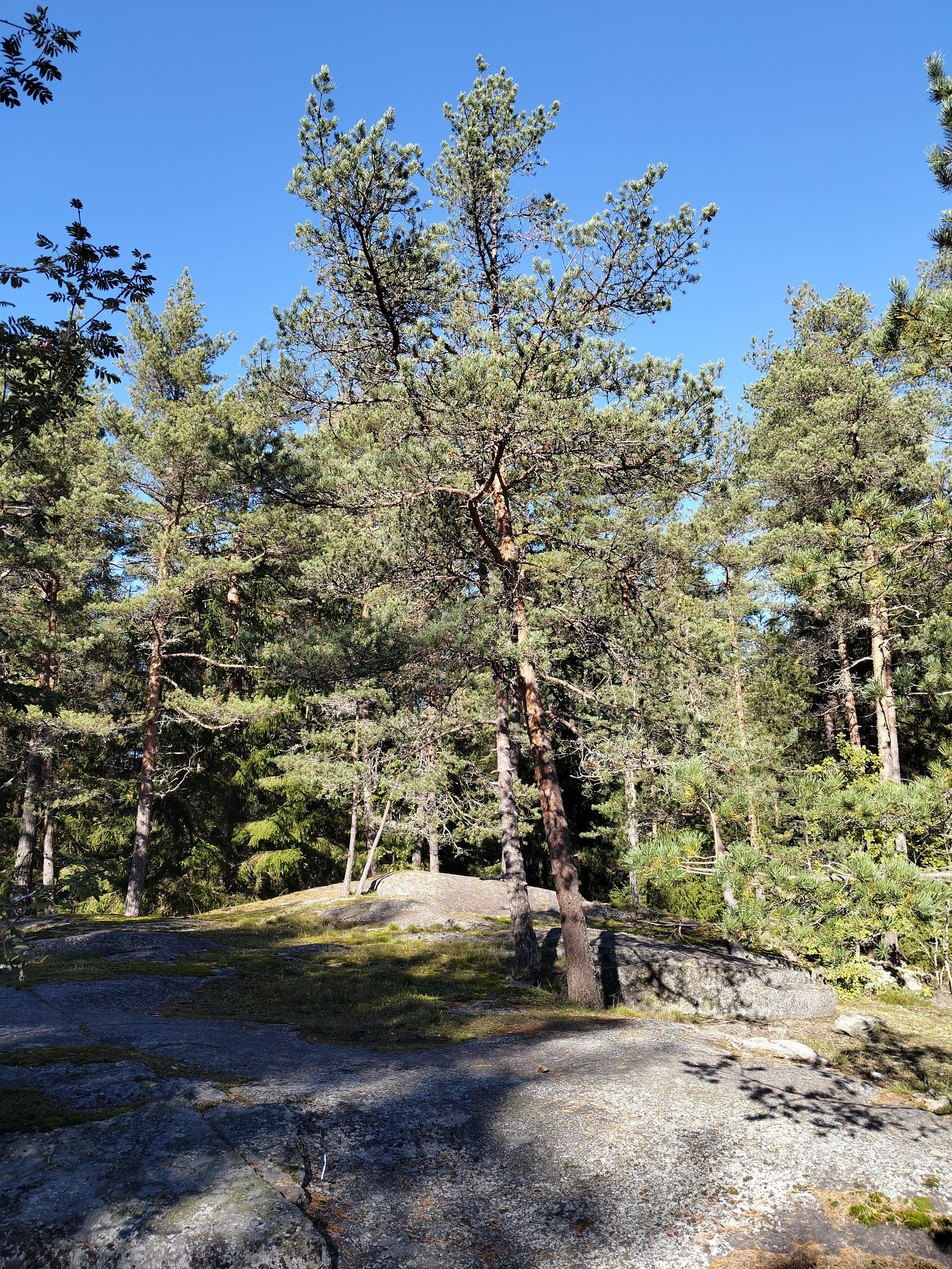Pine: (231, 51, 731, 1010), (99, 388, 275, 918)
